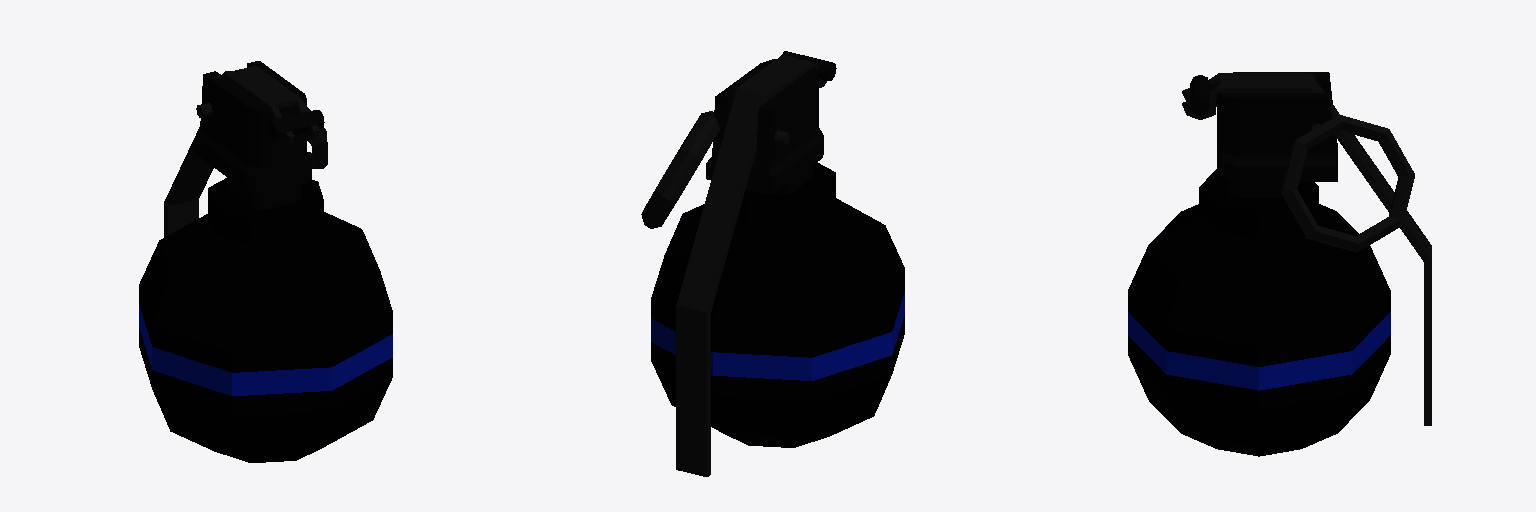
The model's file is Frag_West.obj.
3 renders of one model, left to right at view 1: azimuth 30°, elevation 25°; view 2: azimuth 150°, elevation 25°; view 3: azimuth 270°, elevation 25°, orthographic.
Parts seen in each view (by area): view 1: Frag_West; view 2: Frag_West; view 3: Frag_West.
Boxes of the visible parts, x1,y1,x2,y2 form: Frag_West: [139, 61, 392, 462]; Frag_West: [641, 51, 904, 476]; Frag_West: [1128, 72, 1431, 456].
Bounding box in the file's own units: 0.0672 × 0.0988 × 0.0778.